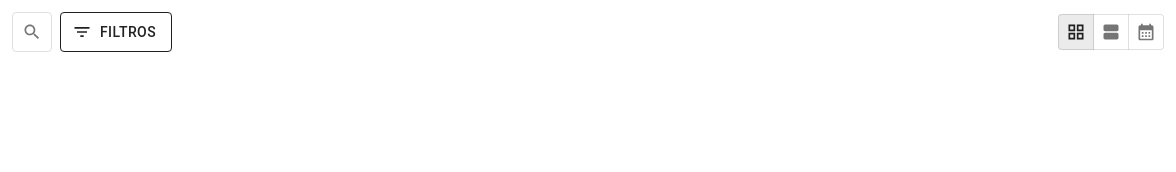
EventsFilters › fecha os filtros abertos ao trocar para calendário
Click the button "Filtros": (116, 32) [60,12,172,52]
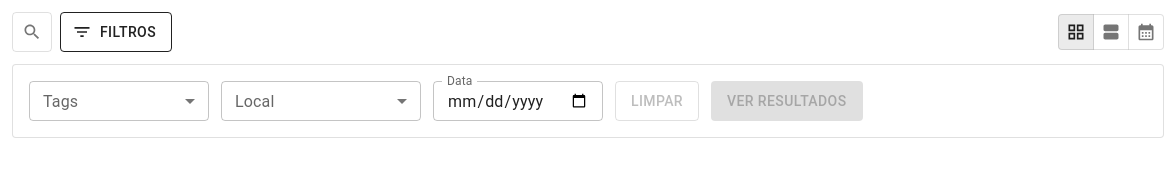
Expected: the dropdown named "local" next to "Local" is shown, [221,81,421,121]
Click the button named "calendário": (1146, 32) [1128,14,1164,50]
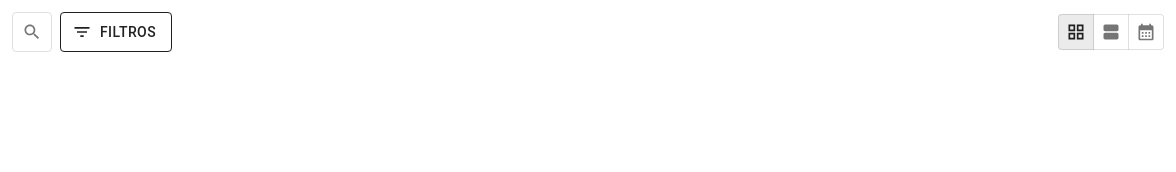
Expected: the text labelled "Local" is gone
